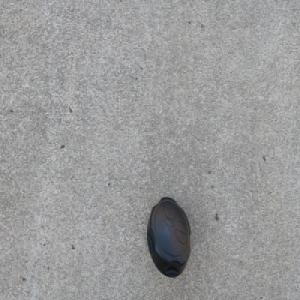FuelCap: (144, 195, 191, 281)
